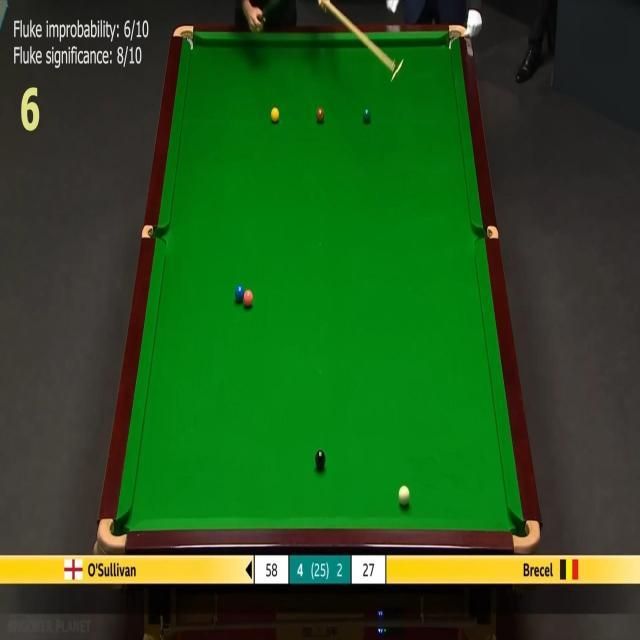Ball: (398, 485, 410, 505), (314, 450, 326, 468), (234, 284, 244, 301), (243, 290, 253, 306), (270, 106, 280, 122), (362, 108, 370, 122), (316, 109, 324, 122)
